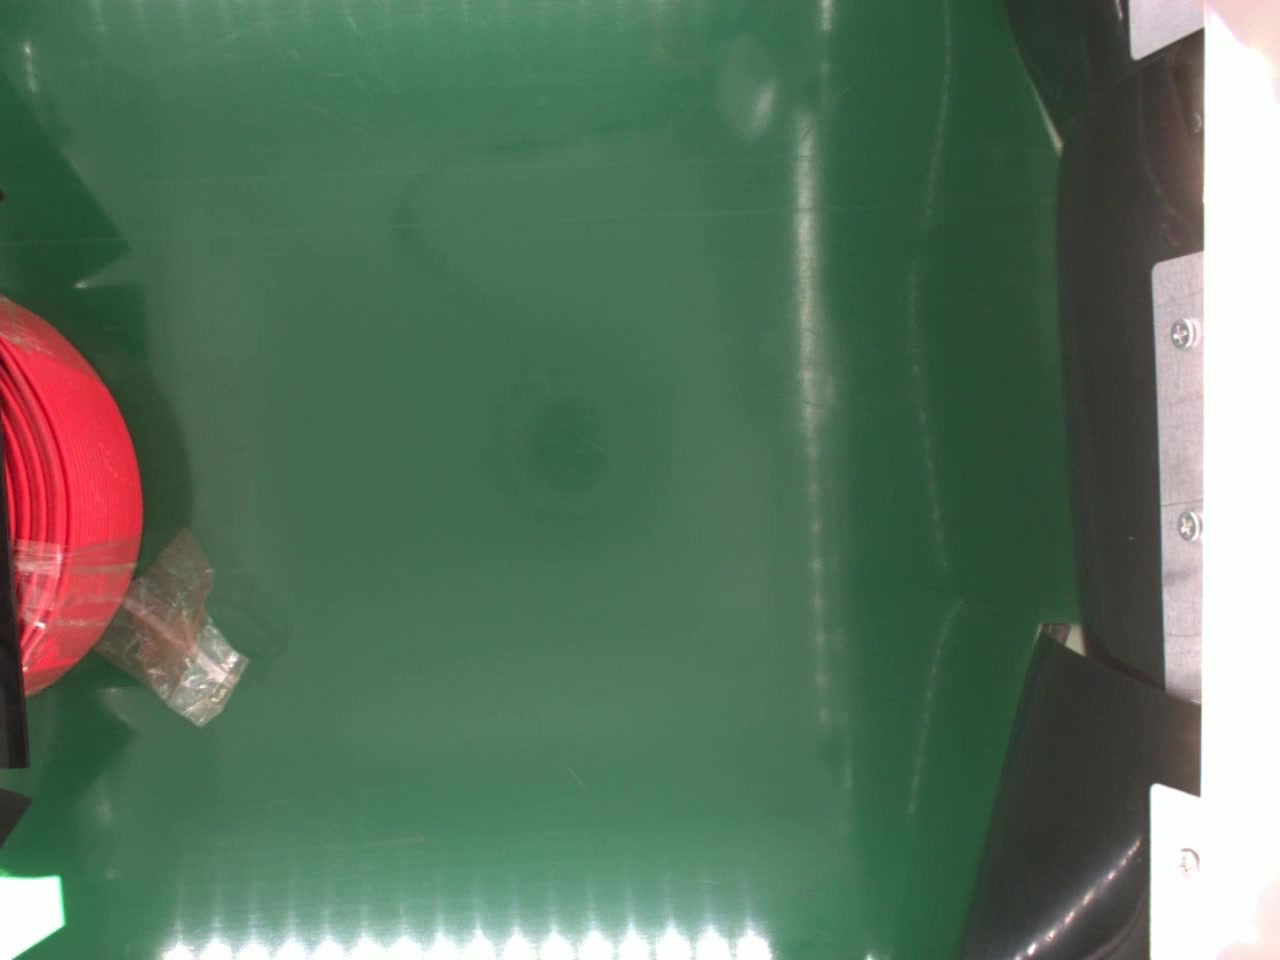red: (0, 288, 142, 700)
